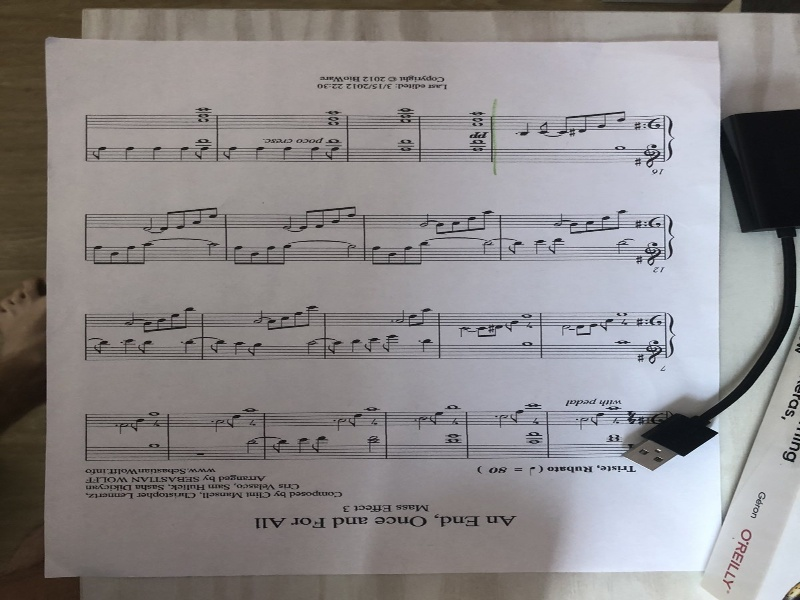document: (43, 37, 724, 575)
